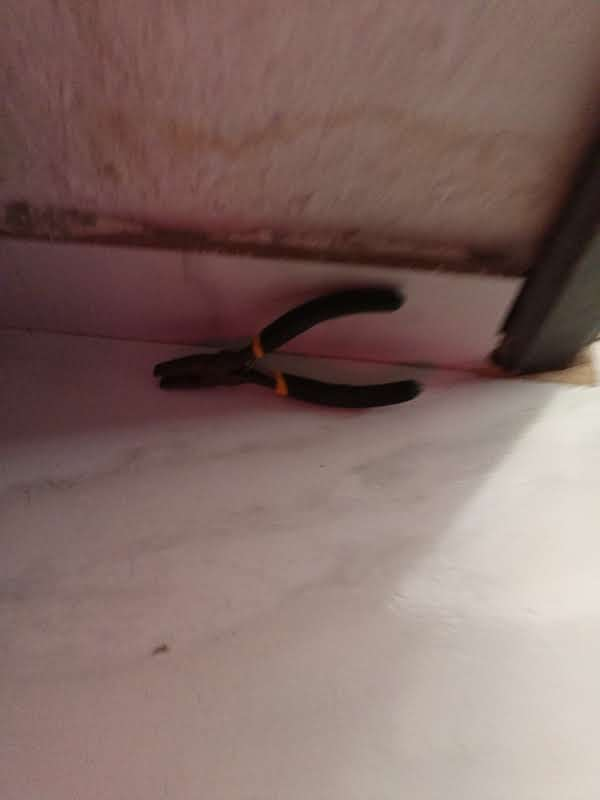Pinzas: (154, 288, 421, 407)
